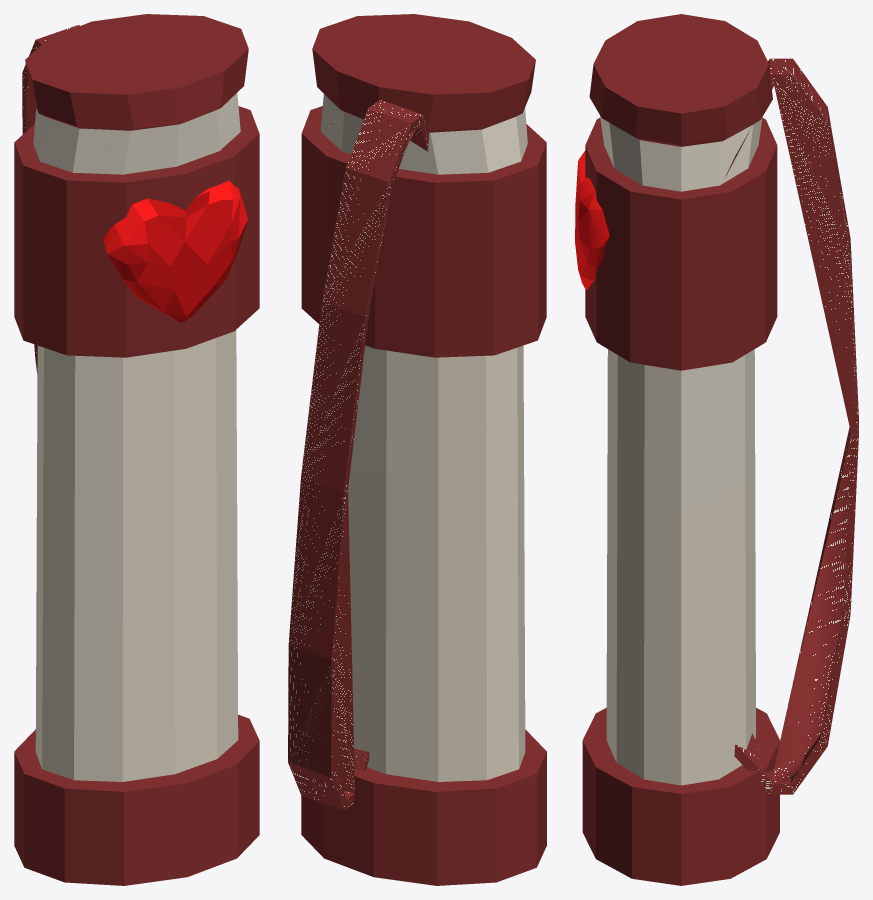
The model's file is item_quiver_heart.glb.
The picture shows the model from 3 angles, left to right: view 1: azimuth 30°, elevation 25°; view 2: azimuth 150°, elevation 25°; view 3: azimuth 270°, elevation 25°; orthographic projection. The views are drawn at different scales.
Parts seen in each view (by area): view 1: Quiver_Valentines; view 2: Quiver_Valentines; view 3: Quiver_Valentines.
Part boxes in pixels (x1,y1,x2,y2): Quiver_Valentines: (14,14,259,885); Quiver_Valentines: (288,14,546,885); Quiver_Valentines: (575,14,858,885).
Bounding box in the file's own units: 0.138 × 0.456 × 0.1527.
1 material, 1 textured.
